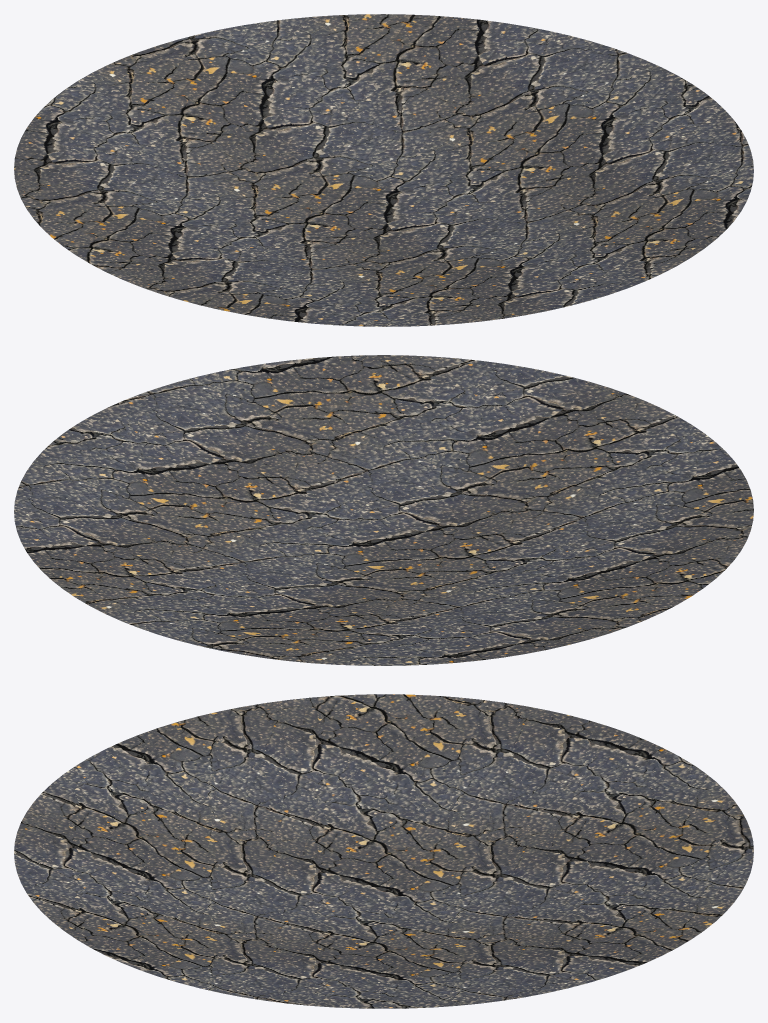
The model's file is cracked_ground_of_black_earth_with_fallen_leaves.glb.
3 views of the same model, one above another, from view 1: azimuth 30°, elevation 25°; view 2: azimuth 150°, elevation 25°; view 3: azimuth 270°, elevation 25° (orthographic).
Parts seen in each view (by area): view 1: Object_2; view 2: Object_2; view 3: Object_2.
Part boxes in pixels (box(x1,y1,x2,y2)): Object_2: box(14, 14, 753, 326); Object_2: box(14, 355, 753, 665); Object_2: box(14, 694, 753, 1008).
Size of the model in its own units: 1316 by 67 by 1316.
Materials: 1 (1 with a texture image).
